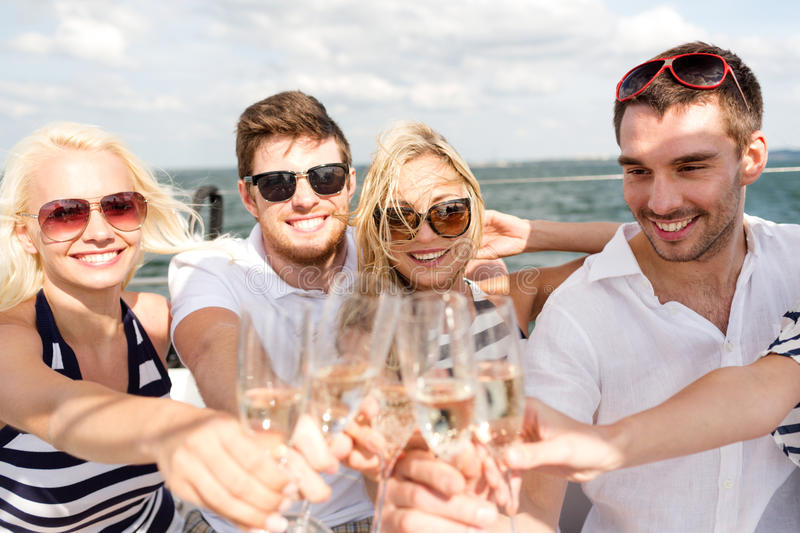bare: (625, 188, 739, 263), (36, 233, 150, 288), (250, 196, 349, 256), (383, 231, 476, 285)
